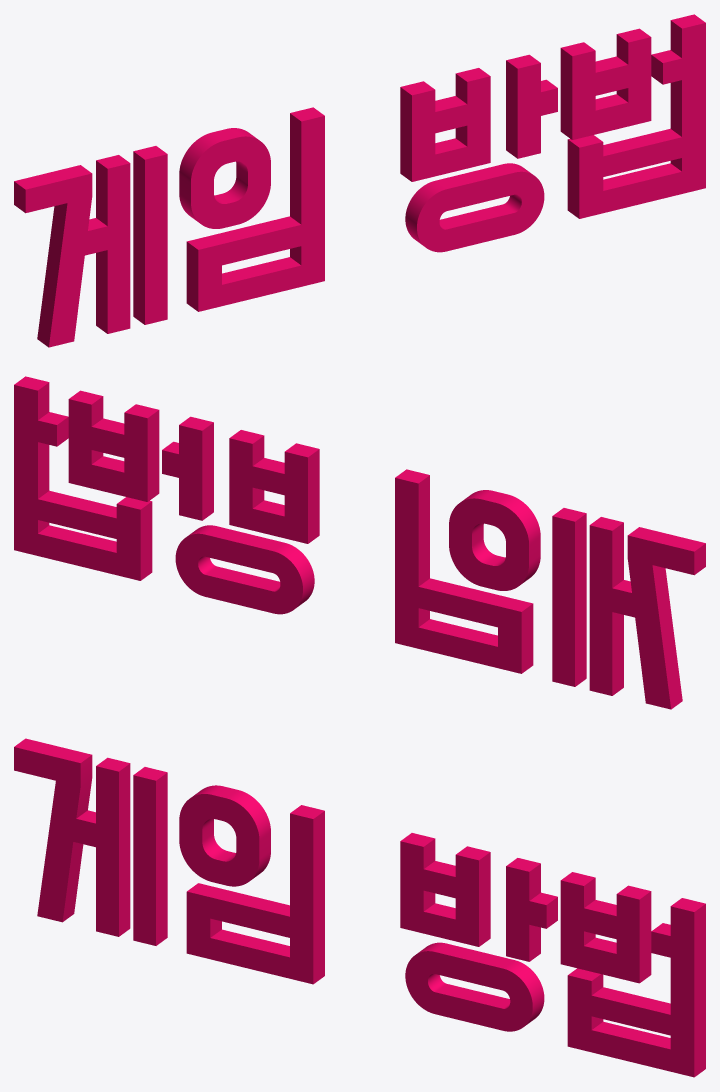
Rendered from synopG.FBX.
3 renders of one model, top to bottom at view 1: azimuth 30°, elevation 25°; view 2: azimuth 150°, elevation 25°; view 3: azimuth 330°, elevation 25°, orthographic.
Visible parts, largest first — view 1: Text014; view 2: Text014; view 3: Text014.
Boxes of the visible parts, bbox=[...] form: Text014: bbox=[14, 14, 705, 347]; Text014: bbox=[14, 376, 705, 709]; Text014: bbox=[14, 738, 705, 1077].
Bounding box in the file's own units: 339 × 78.8 × 10.
